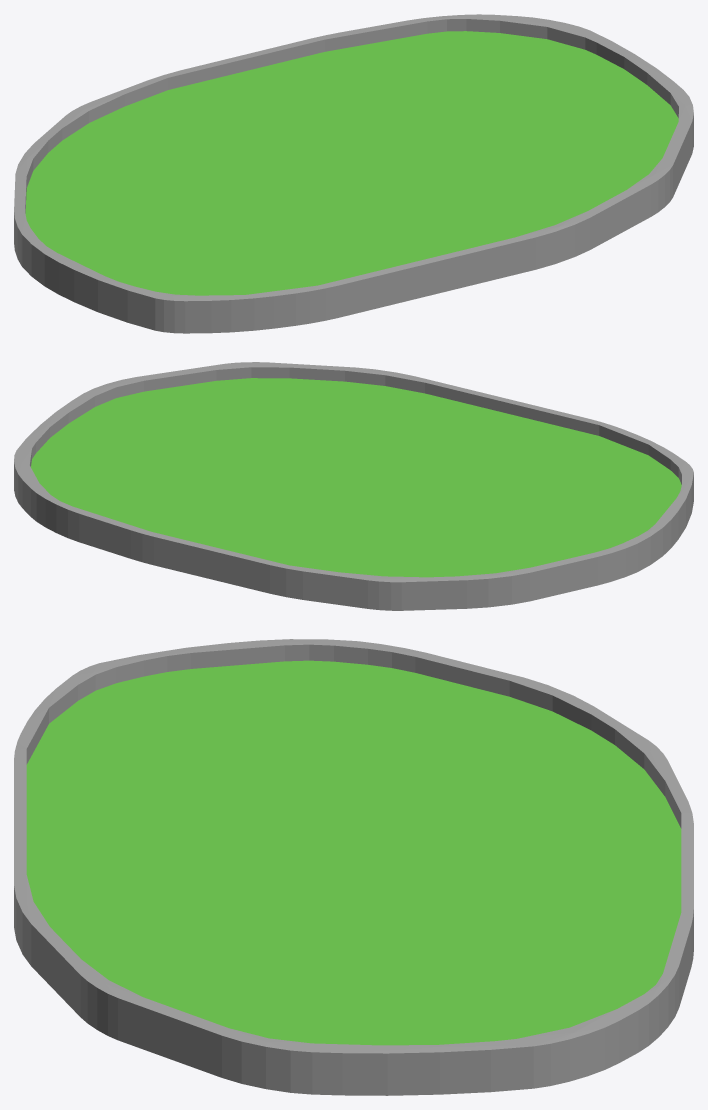
File: ロータリー.fbx
The picture shows the model from 3 angles, top to bottom: view 1: azimuth 30°, elevation 25°; view 2: azimuth 150°, elevation 25°; view 3: azimuth 270°, elevation 25°; orthographic projection. The views are drawn at different scales.
Parts seen in each view (by area): view 1: Cube; view 2: Cube; view 3: Cube.
Boxes of the visible parts, <box> form: Cube: <box>14,14,693,333</box>; Cube: <box>14,362,693,610</box>; Cube: <box>14,639,693,1095</box>.
Size of the model in its own units: 4201 by 202 by 2913.
